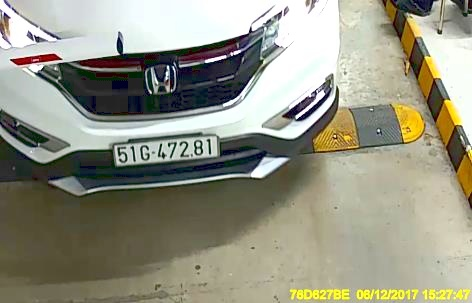plate: (104, 131, 221, 165)
